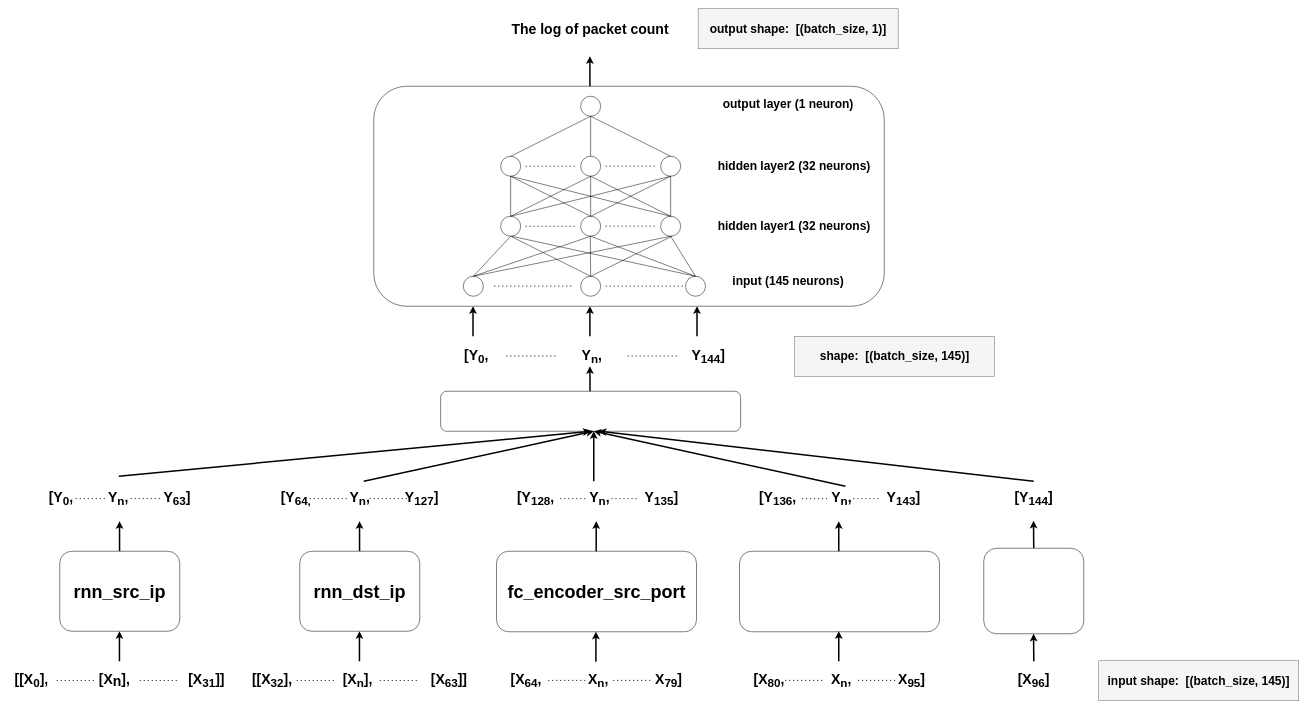
Image size: 1308x710. Some labels were removed from this diagram. Here are the shapes that lost their labels. From the top down, the centre of each, then its label:
At (x=590, y=411): "concat".
At (x=839, y=591): "fc_encoder_dst_port".
At (x=1033, y=591): "protocol".
